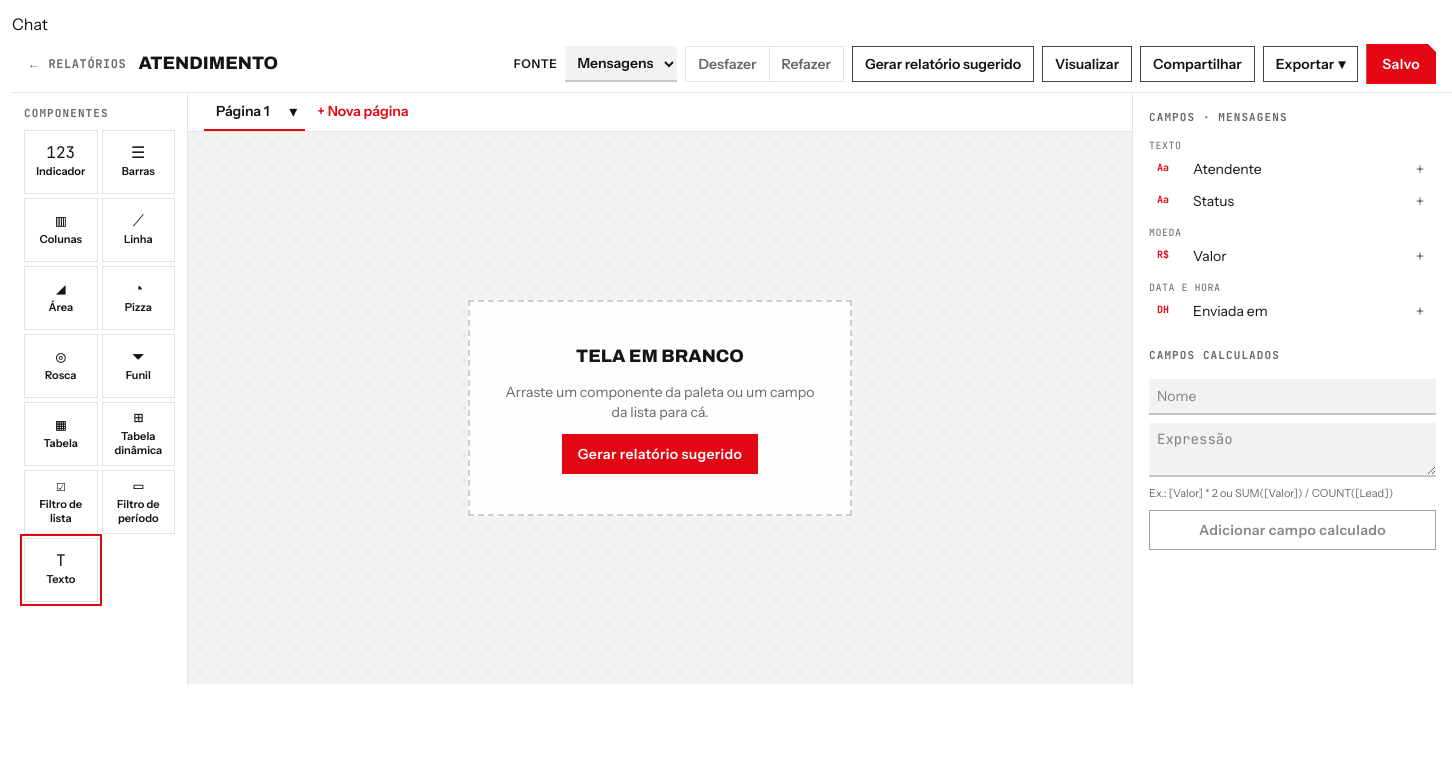
Test: ReportEditor › shows who saved first on conflict and can overwrite
Press Enter
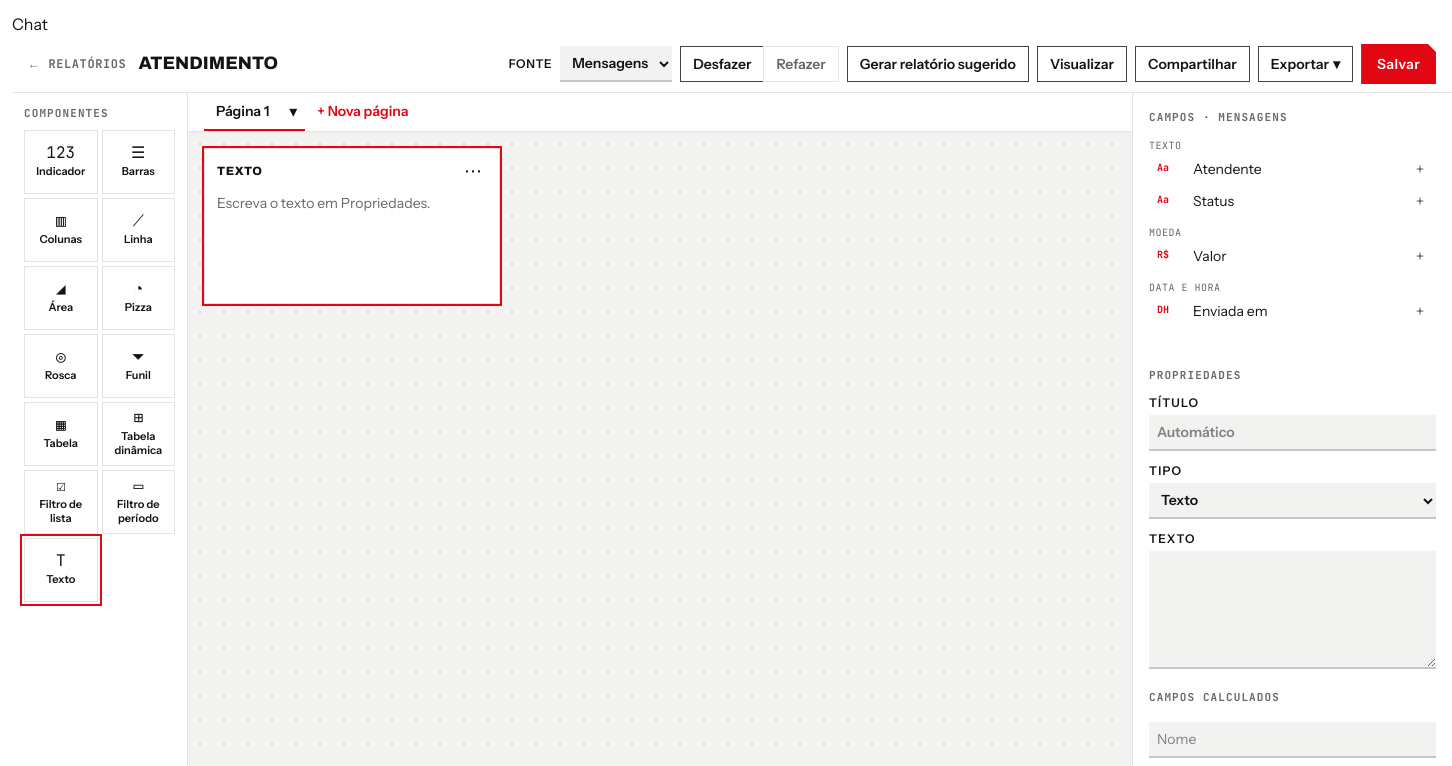
Click the button "Salvar": (1399, 64) [1361,44,1436,84]
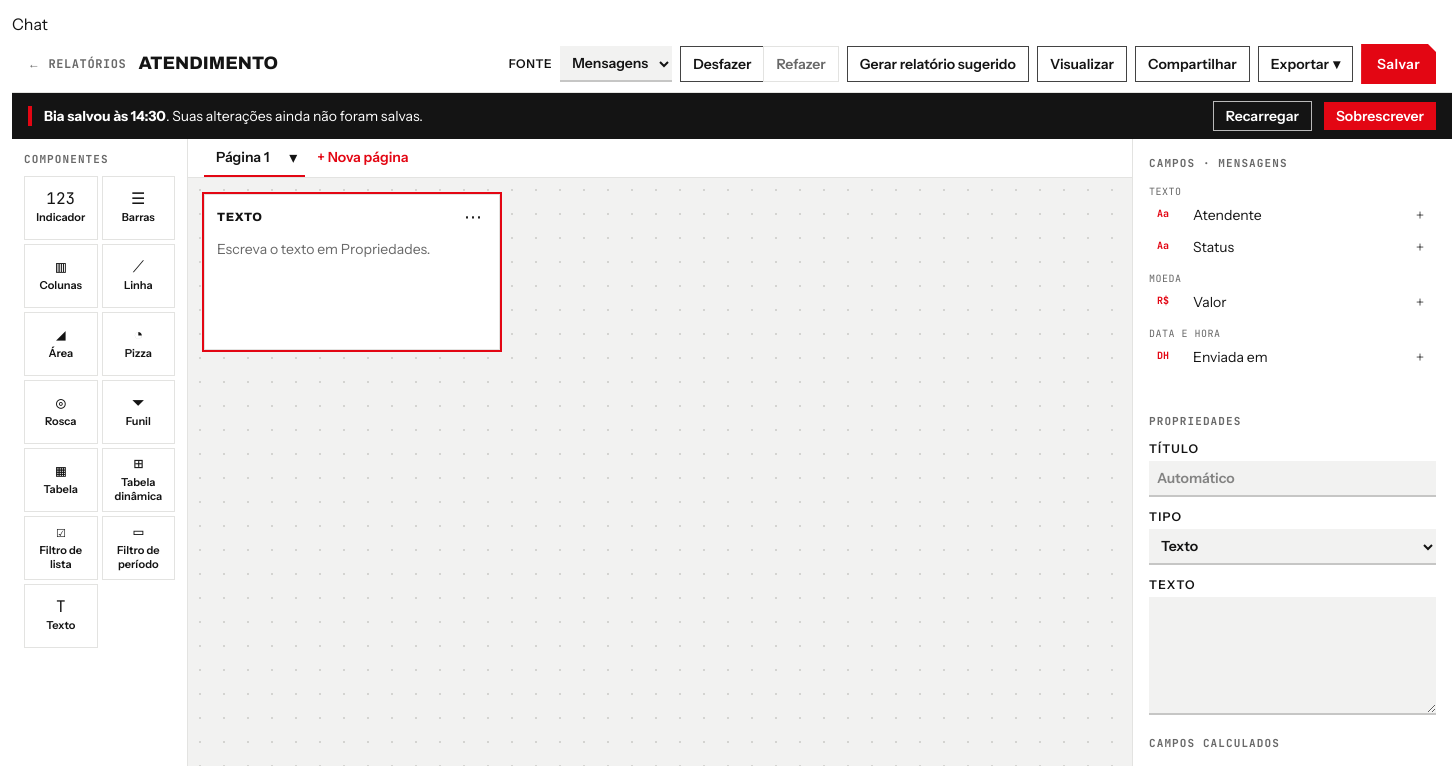
Click the button "Sobrescrever": (1380, 116) [1324,102,1436,130]
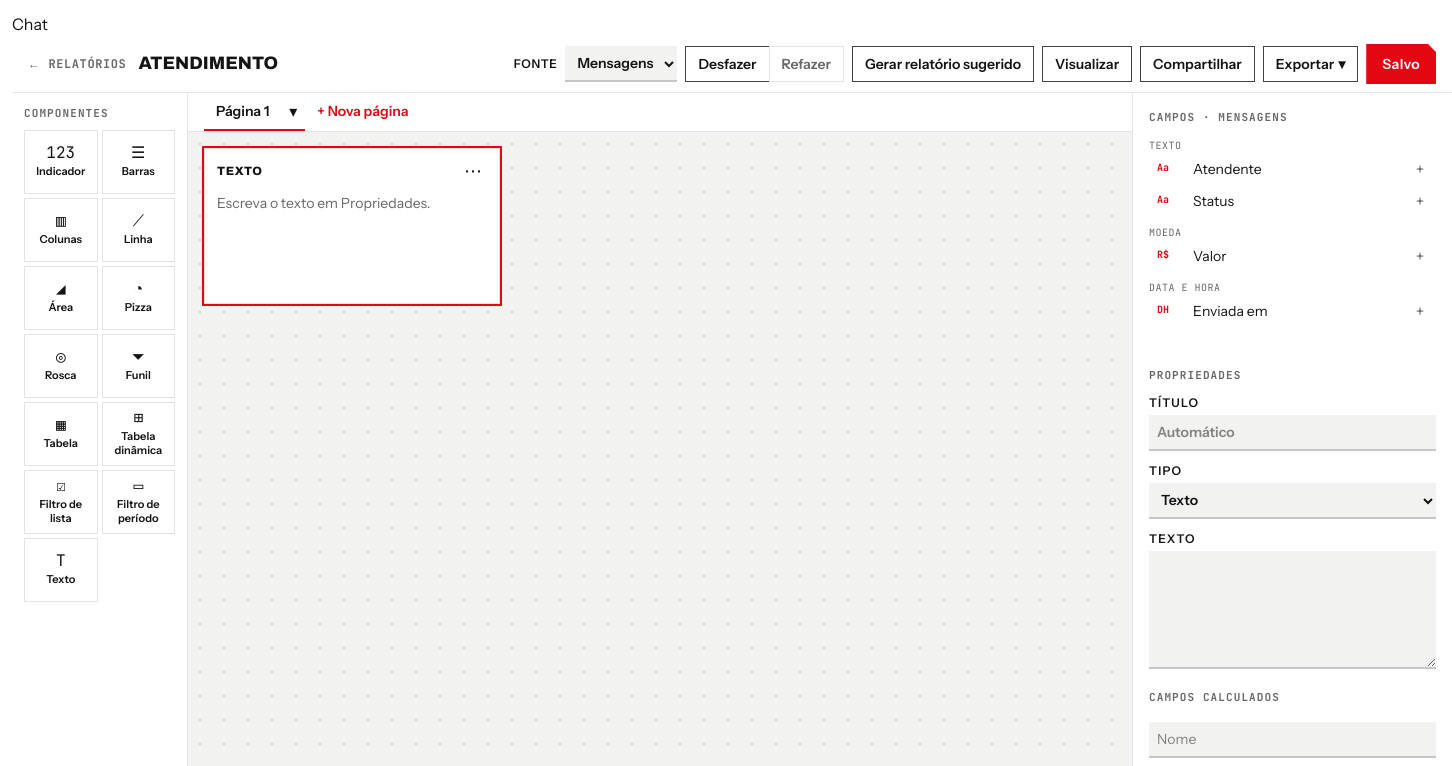
Expected: the text "Bia salvou" is gone
